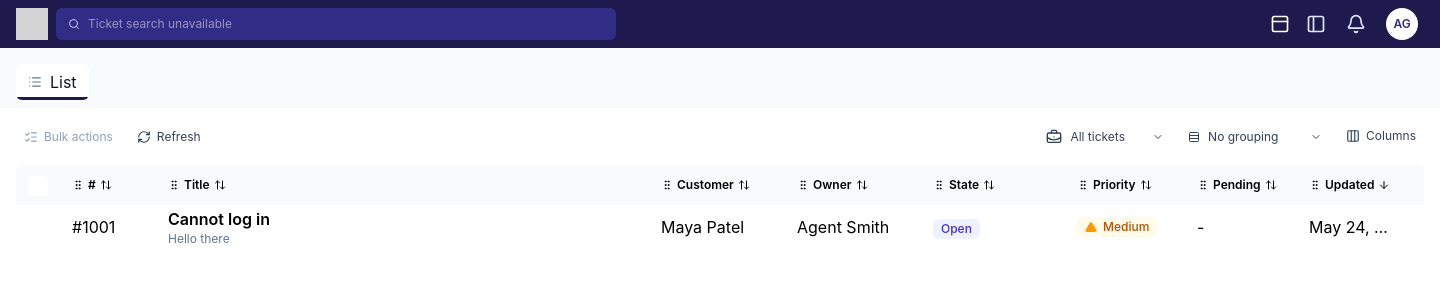
Test: TicketWorkspace paging and sort › refreshes the first ungrouped list page from the provider
Check: the text "New Zammad ticket" is not shown
Click the button with aria-label "Refresh list" at (169, 136), box [129,124,209,148]
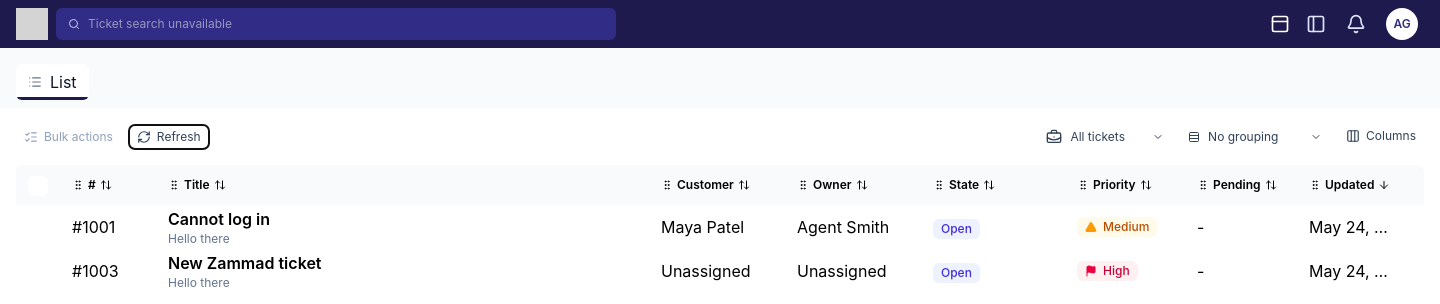
Check: the text "New Zammad ticket" is shown, box [168,253,322,273]
